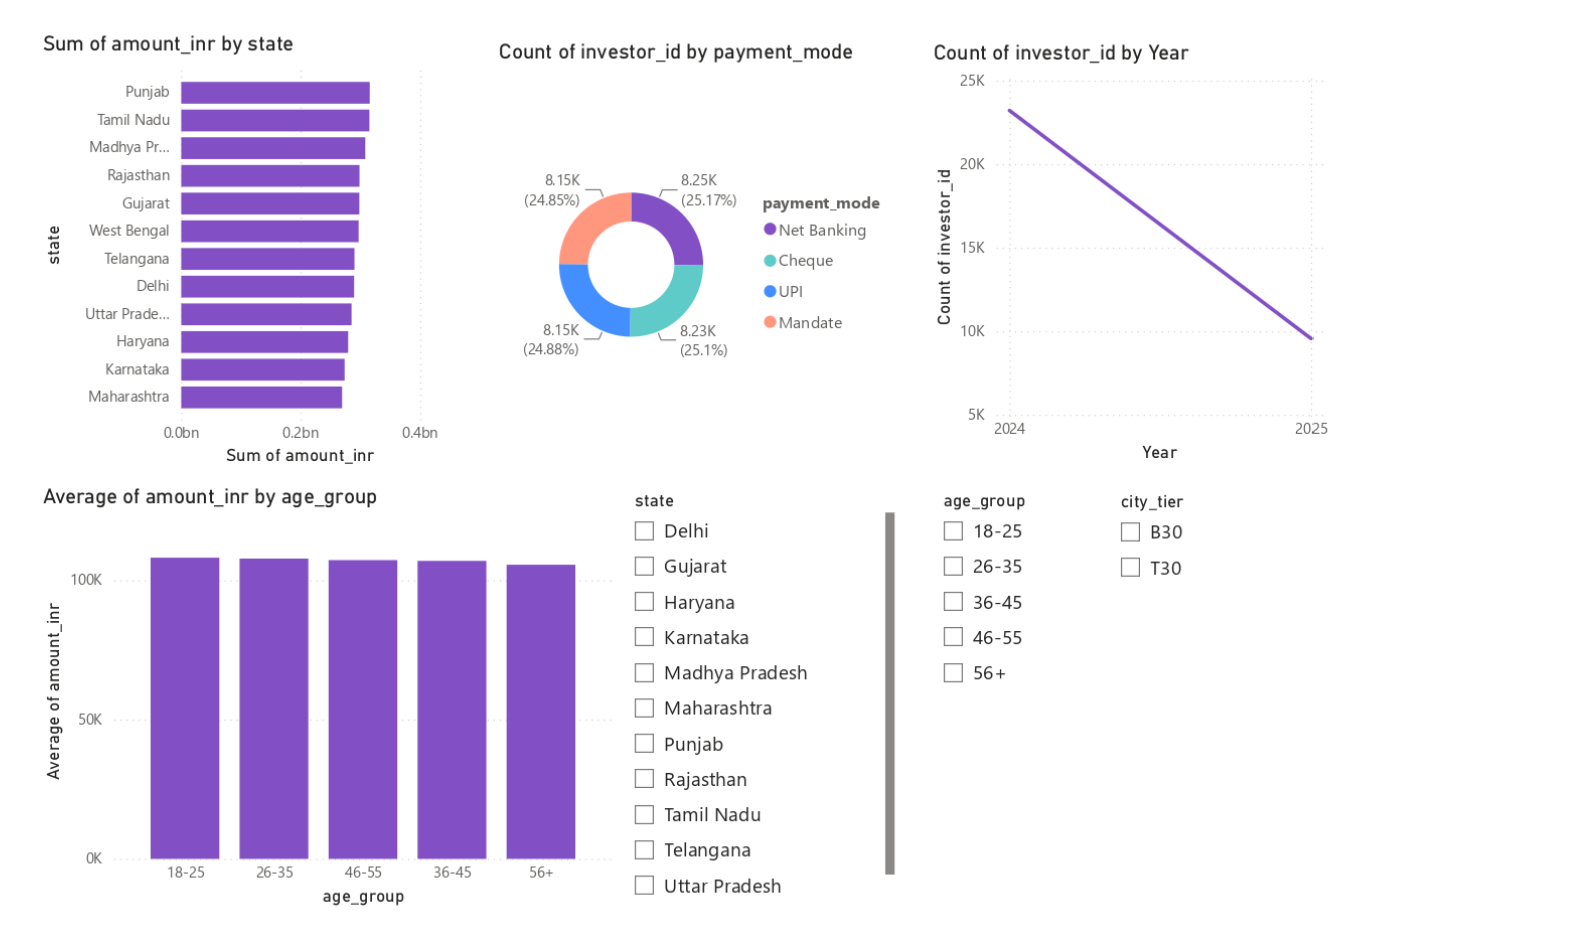

Layout of this report page (visuals, bound fields, positions):
{"tool":"powerbi","page":{"name":"Investor Analytics","canvas":[1280,720],"ordinal":2},"visuals":[{"type":"clusteredBarChart","fields":{"Category":["08_investor_transactions_cleaned.state"],"Y":["Sum(08_investor_transactions_cleaned.amount_inr)"]},"box":[10,0,333.3,360],"z":0},{"type":"donutChart","fields":{"Category":["08_investor_transactions_cleaned.payment_mode"],"Y":["CountNonNull(08_investor_transactions_cleaned.investor_id)"]},"box":[383.3,5.6,333.3,350],"z":1},{"type":"clusteredColumnChart","fields":{"Category":["08_investor_transactions_cleaned.age_group"],"Y":["Avg(08_investor_transactions_cleaned.amount_inr)"]},"box":[10,370,475.6,350],"z":2},{"type":"lineChart","fields":{"Category":["08_investor_transactions_cleaned.transaction_date.Variation.Date Hierarchy.Year","08_investor_transactions_cleaned.transaction_date.Variation.Date Hierarchy.Quarter","08_investor_transactions_cleaned.transaction_date.Variation.Date Hierarchy.Month","08_investor_transactions_cleaned.transaction_date.Variation.Date Hierarchy.Day"],"Y":["CountNonNull(08_investor_transactions_cleaned.investor_id)"]},"box":[737.8,6.7,331.1,350],"z":3},{"type":"slicer","fields":{"Values":["08_investor_transactions_cleaned.state"]},"box":[486,370,230,350],"z":5},{"type":"slicer","fields":{"Values":["08_investor_transactions_cleaned.age_group"]},"box":[737.8,370,118.9,350],"z":6},{"type":"slicer","fields":{"Values":["08_investor_transactions_cleaned.city_tier"]},"box":[883.3,371.1,185.6,348.9],"z":7}]}

Visuals, with their boxes on the page's 1280x720 design canvas (x1, y1, x2, y2). These are canvas units, not pixel positions in the 1569x928 screenshot, which may show the page scaled, cropped or inside an application window:
clusteredBarChart - 08_investor_transactions_cleaned.state x Sum(08_investor_transactions_cleaned.amount_inr): [10,0,343,360]
donutChart - 08_investor_transactions_cleaned.payment_mode x CountNonNull(08_investor_transactions_cleaned.investor_id): [383,6,717,356]
clusteredColumnChart - 08_investor_transactions_cleaned.age_group x Avg(08_investor_transactions_cleaned.amount_inr): [10,370,486,720]
lineChart - 08_investor_transactions_cleaned.transaction_date.Variation.Date Hierarchy.Year x 08_investor_transactions_cleaned.transaction_date.Variation.Date Hierarchy.Quarter: [738,7,1069,357]
slicer - 08_investor_transactions_cleaned.state: [486,370,716,720]
slicer - 08_investor_transactions_cleaned.age_group: [738,370,857,720]
slicer - 08_investor_transactions_cleaned.city_tier: [883,371,1069,720]
